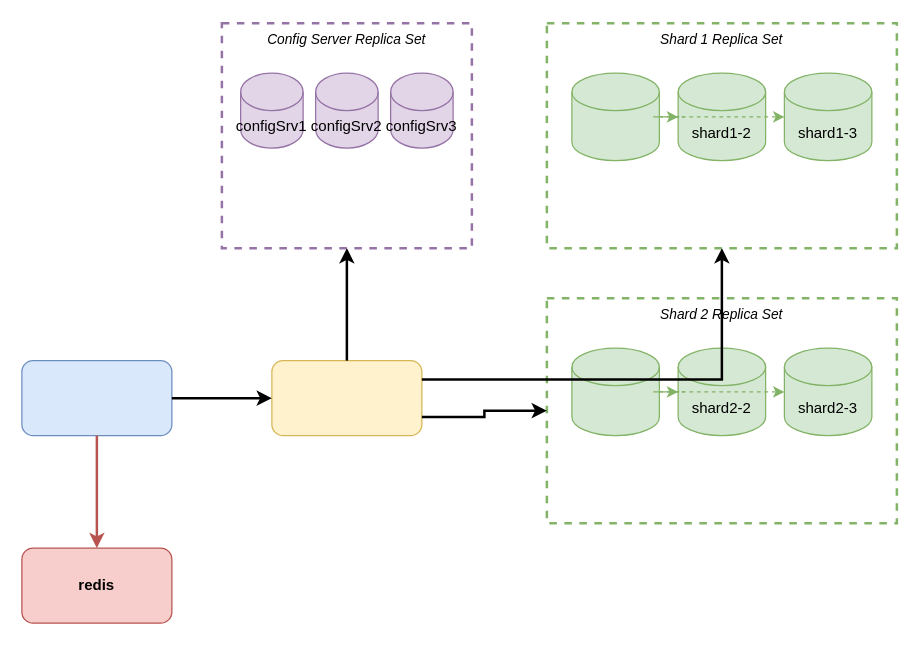
Some shapes in this 920 by 645 pixel diagram are drawn without their labels. Here are the shapes that lost their labels. From the top down, the centre of each, then its label:
point (615, 116): shard1-1 (primary)
point (96, 397): pymongo-api
point (346, 397): mongos_router
point (615, 391): shard2-1 (primary)
